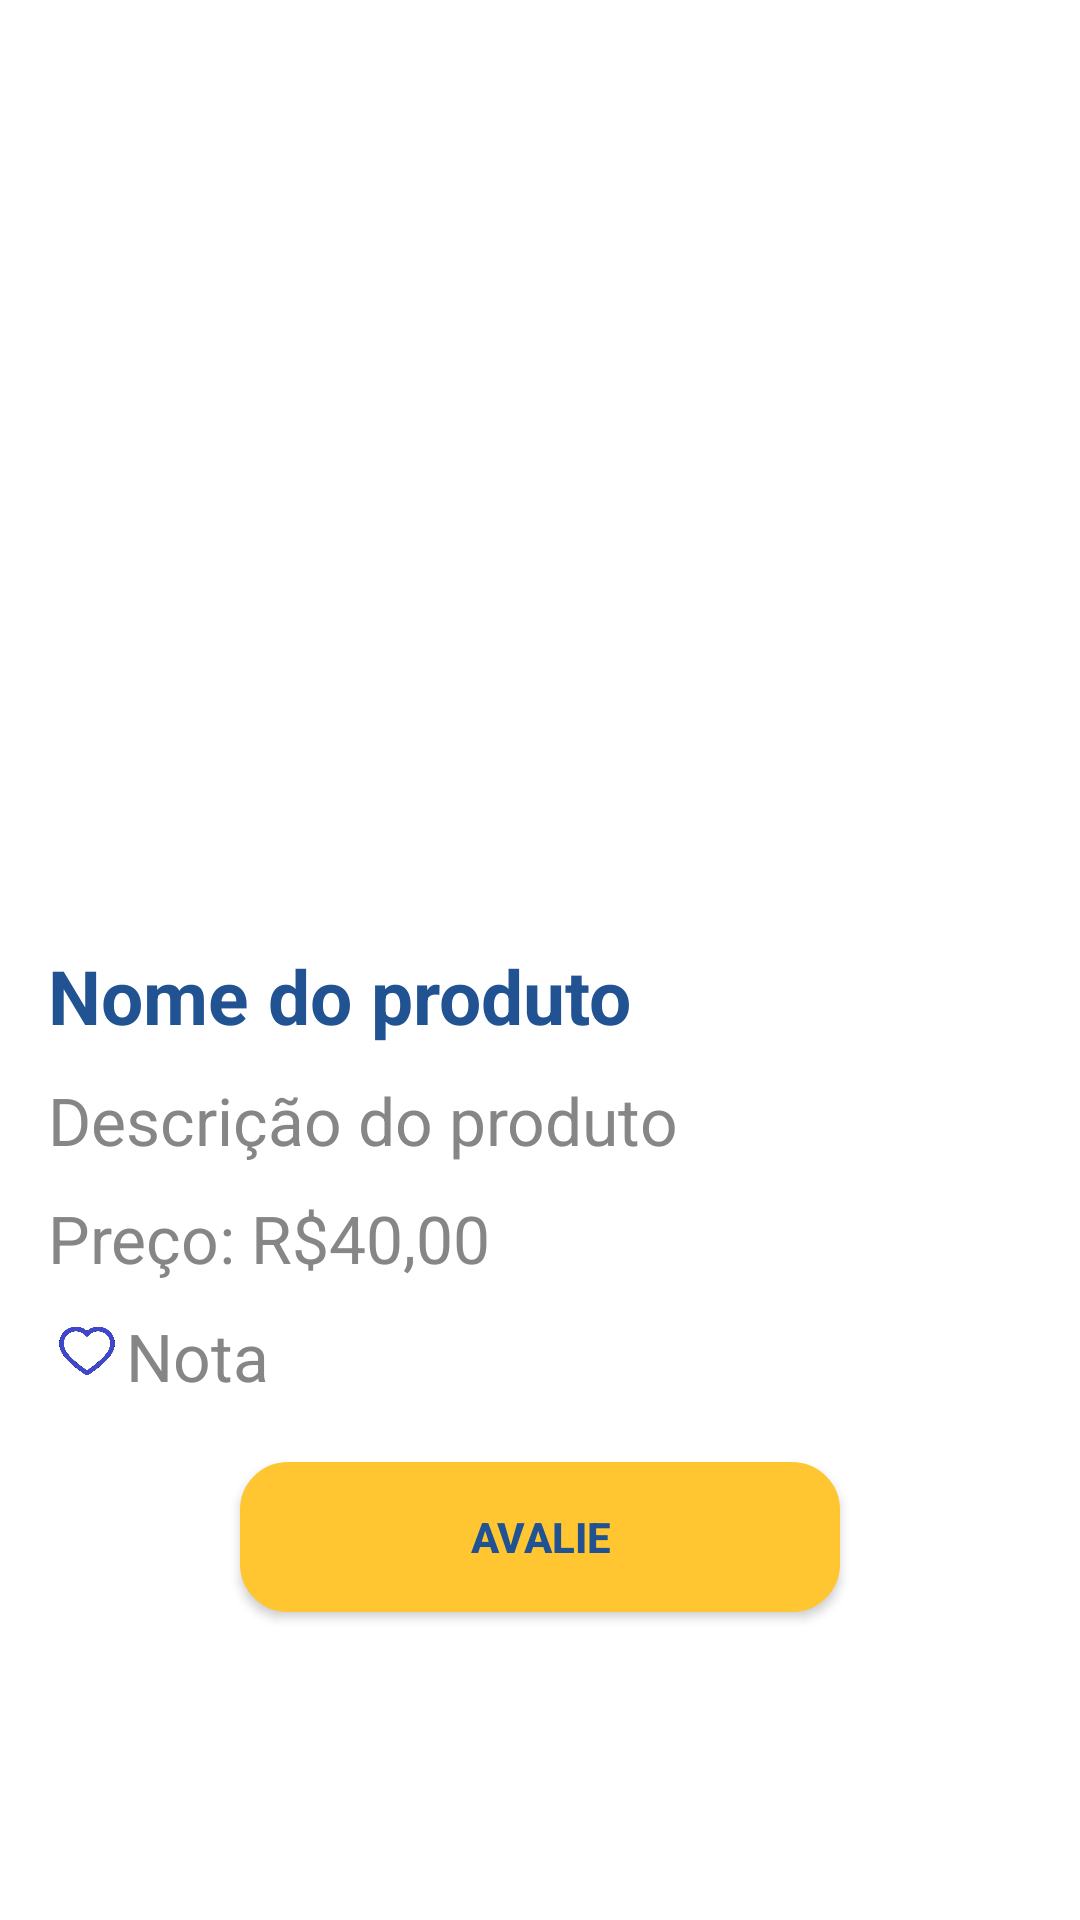

Icons on this 1080px x 1920px Android screen, each with its box as (x1, y1, x2, y2):
heart outfilled: (59, 1327, 115, 1375)
